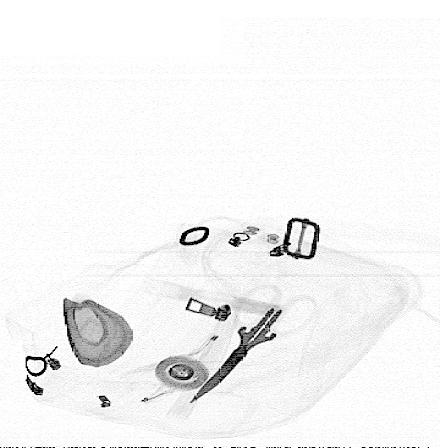Scissors: (184, 282, 323, 407)
